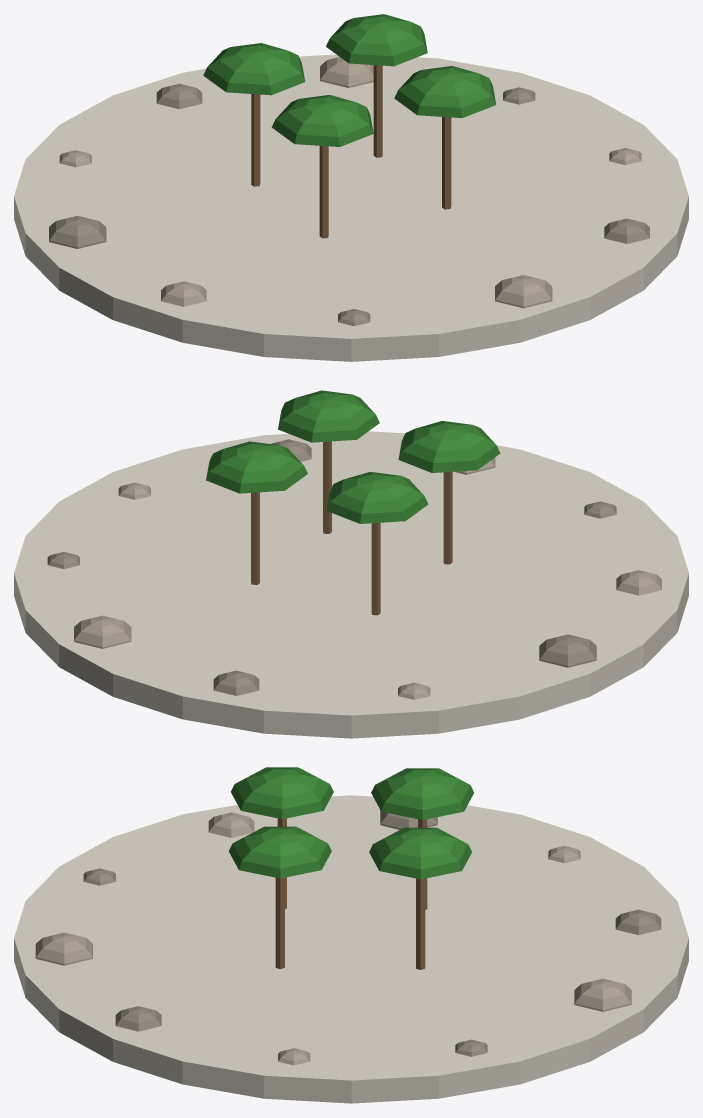
Rendered from rb_boulder.glb.
3 renders of one model, top to bottom at view 1: azimuth 30°, elevation 25°; view 2: azimuth 150°, elevation 25°; view 3: azimuth 270°, elevation 25°, orthographic.
Parts seen in each view (by area): view 1: rb_boulder_lod0; view 2: rb_boulder_lod0; view 3: rb_boulder_lod0.
Boxes of the visible parts, x1,y1,x2,y2 form: rb_boulder_lod0: [14, 14, 688, 361]; rb_boulder_lod0: [14, 390, 688, 738]; rb_boulder_lod0: [14, 767, 688, 1103].
Size of what is drawn, in the model's own units: 30.6 by 7.78 by 30.6.
